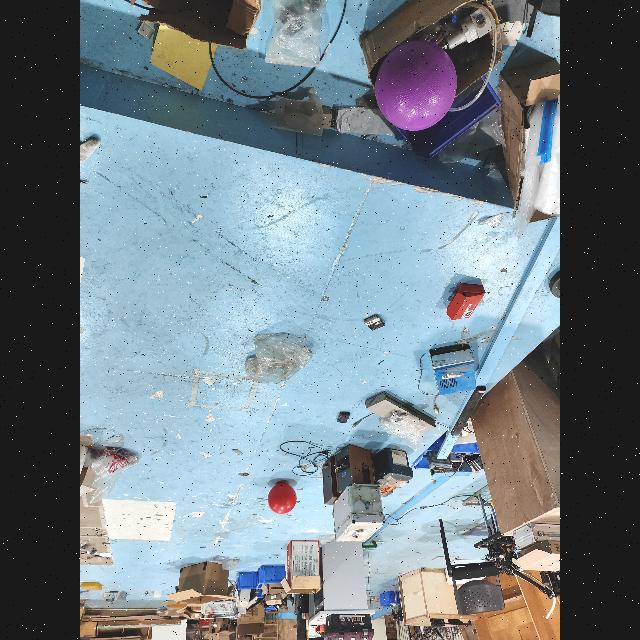P: (374, 38, 458, 130)
R: (267, 481, 297, 515)
